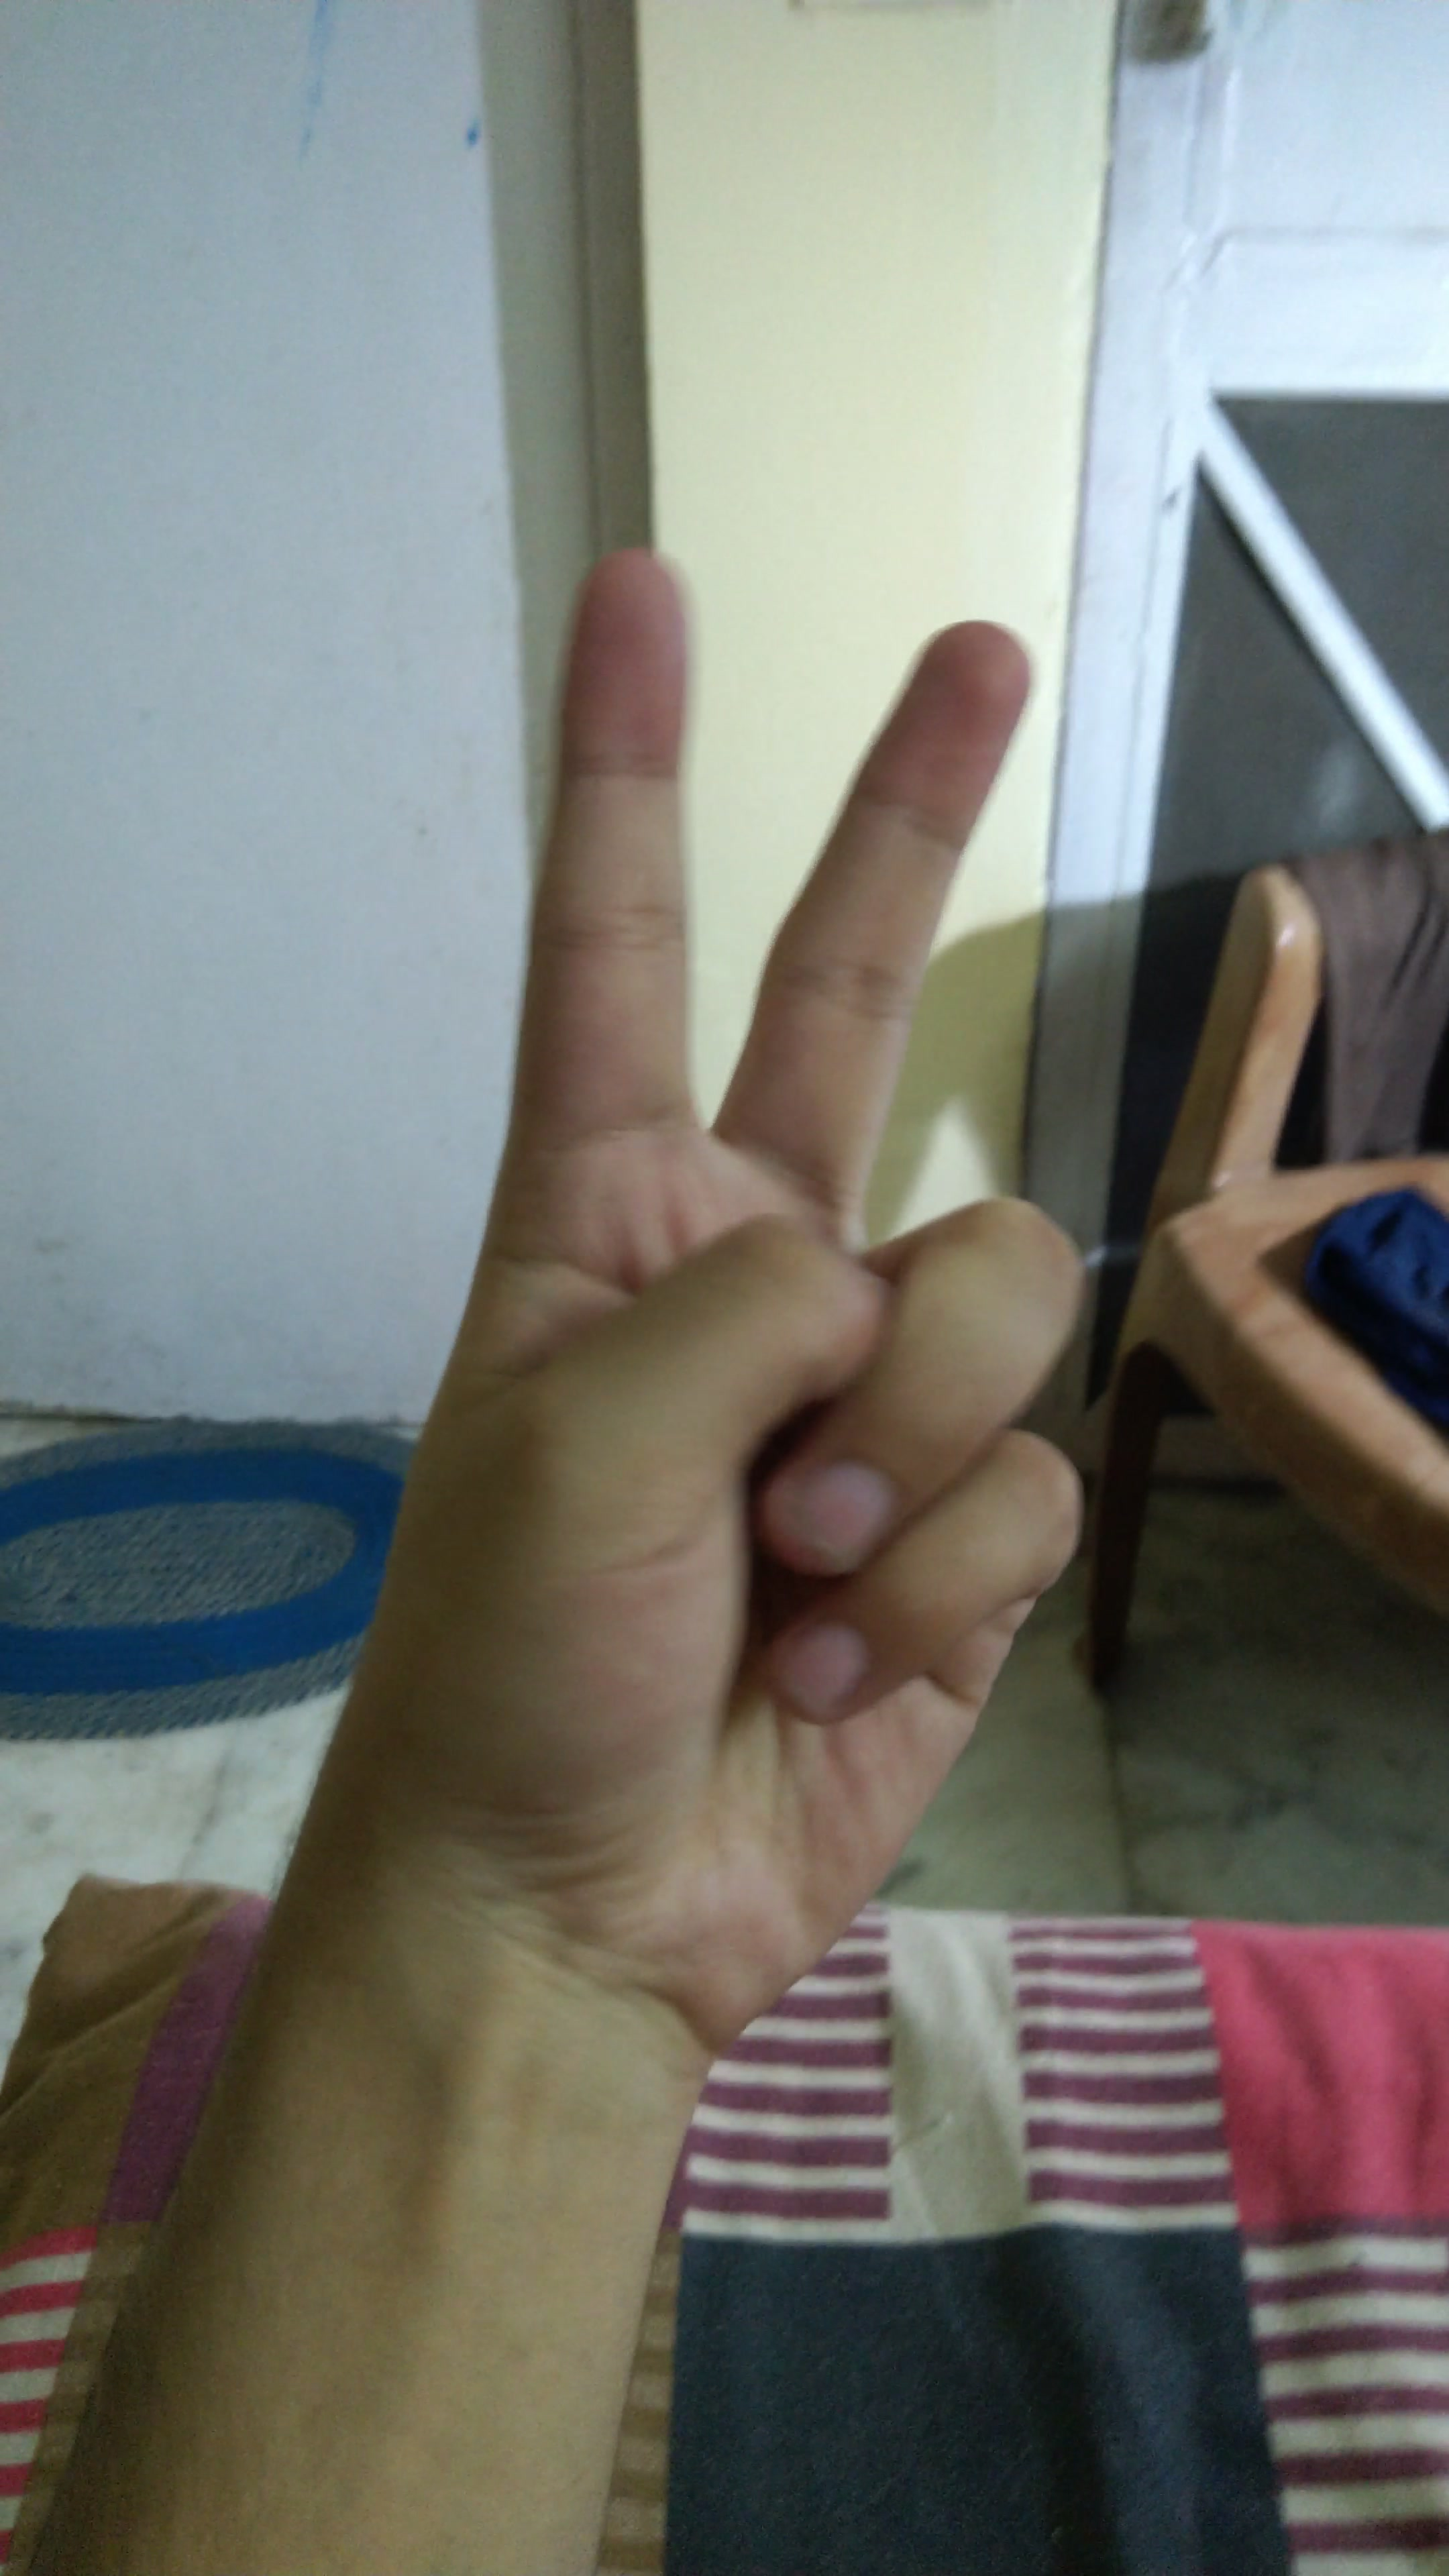hand: (219, 533, 1120, 2024)
